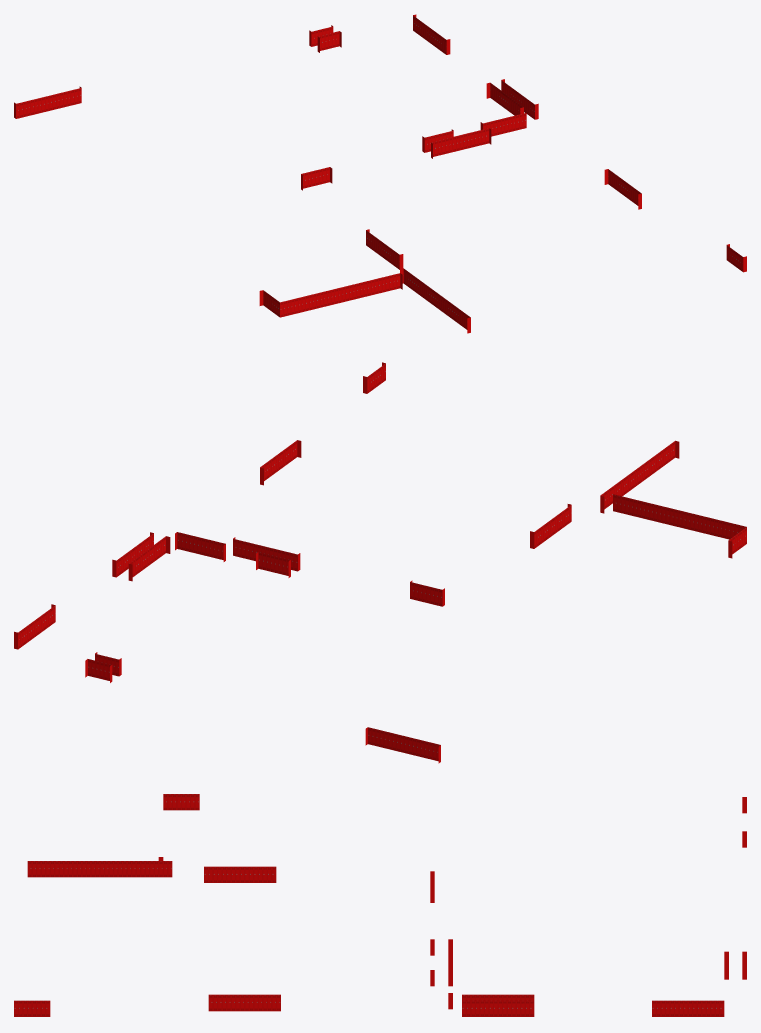
File: Lockers_CombinedMesh.obj
3 views of the same model, one above another, from view 1: azimuth 30°, elevation 25°; view 2: azimuth 150°, elevation 25°; view 3: azimuth 270°, elevation 25° (orthographic). The views are drawn at different scales.
Parts seen in each view (by area): view 1: Lockers_CombinedMesh; view 2: Lockers_CombinedMesh; view 3: Lockers_CombinedMesh.
Part boxes in pixels (box(x1,y1,x2,y2)): Lockers_CombinedMesh: box(14, 14, 746, 333); Lockers_CombinedMesh: box(14, 362, 746, 763); Lockers_CombinedMesh: box(14, 794, 746, 1016).
Bounding box in the file's own units: 44 × 1.6 × 64.8.
